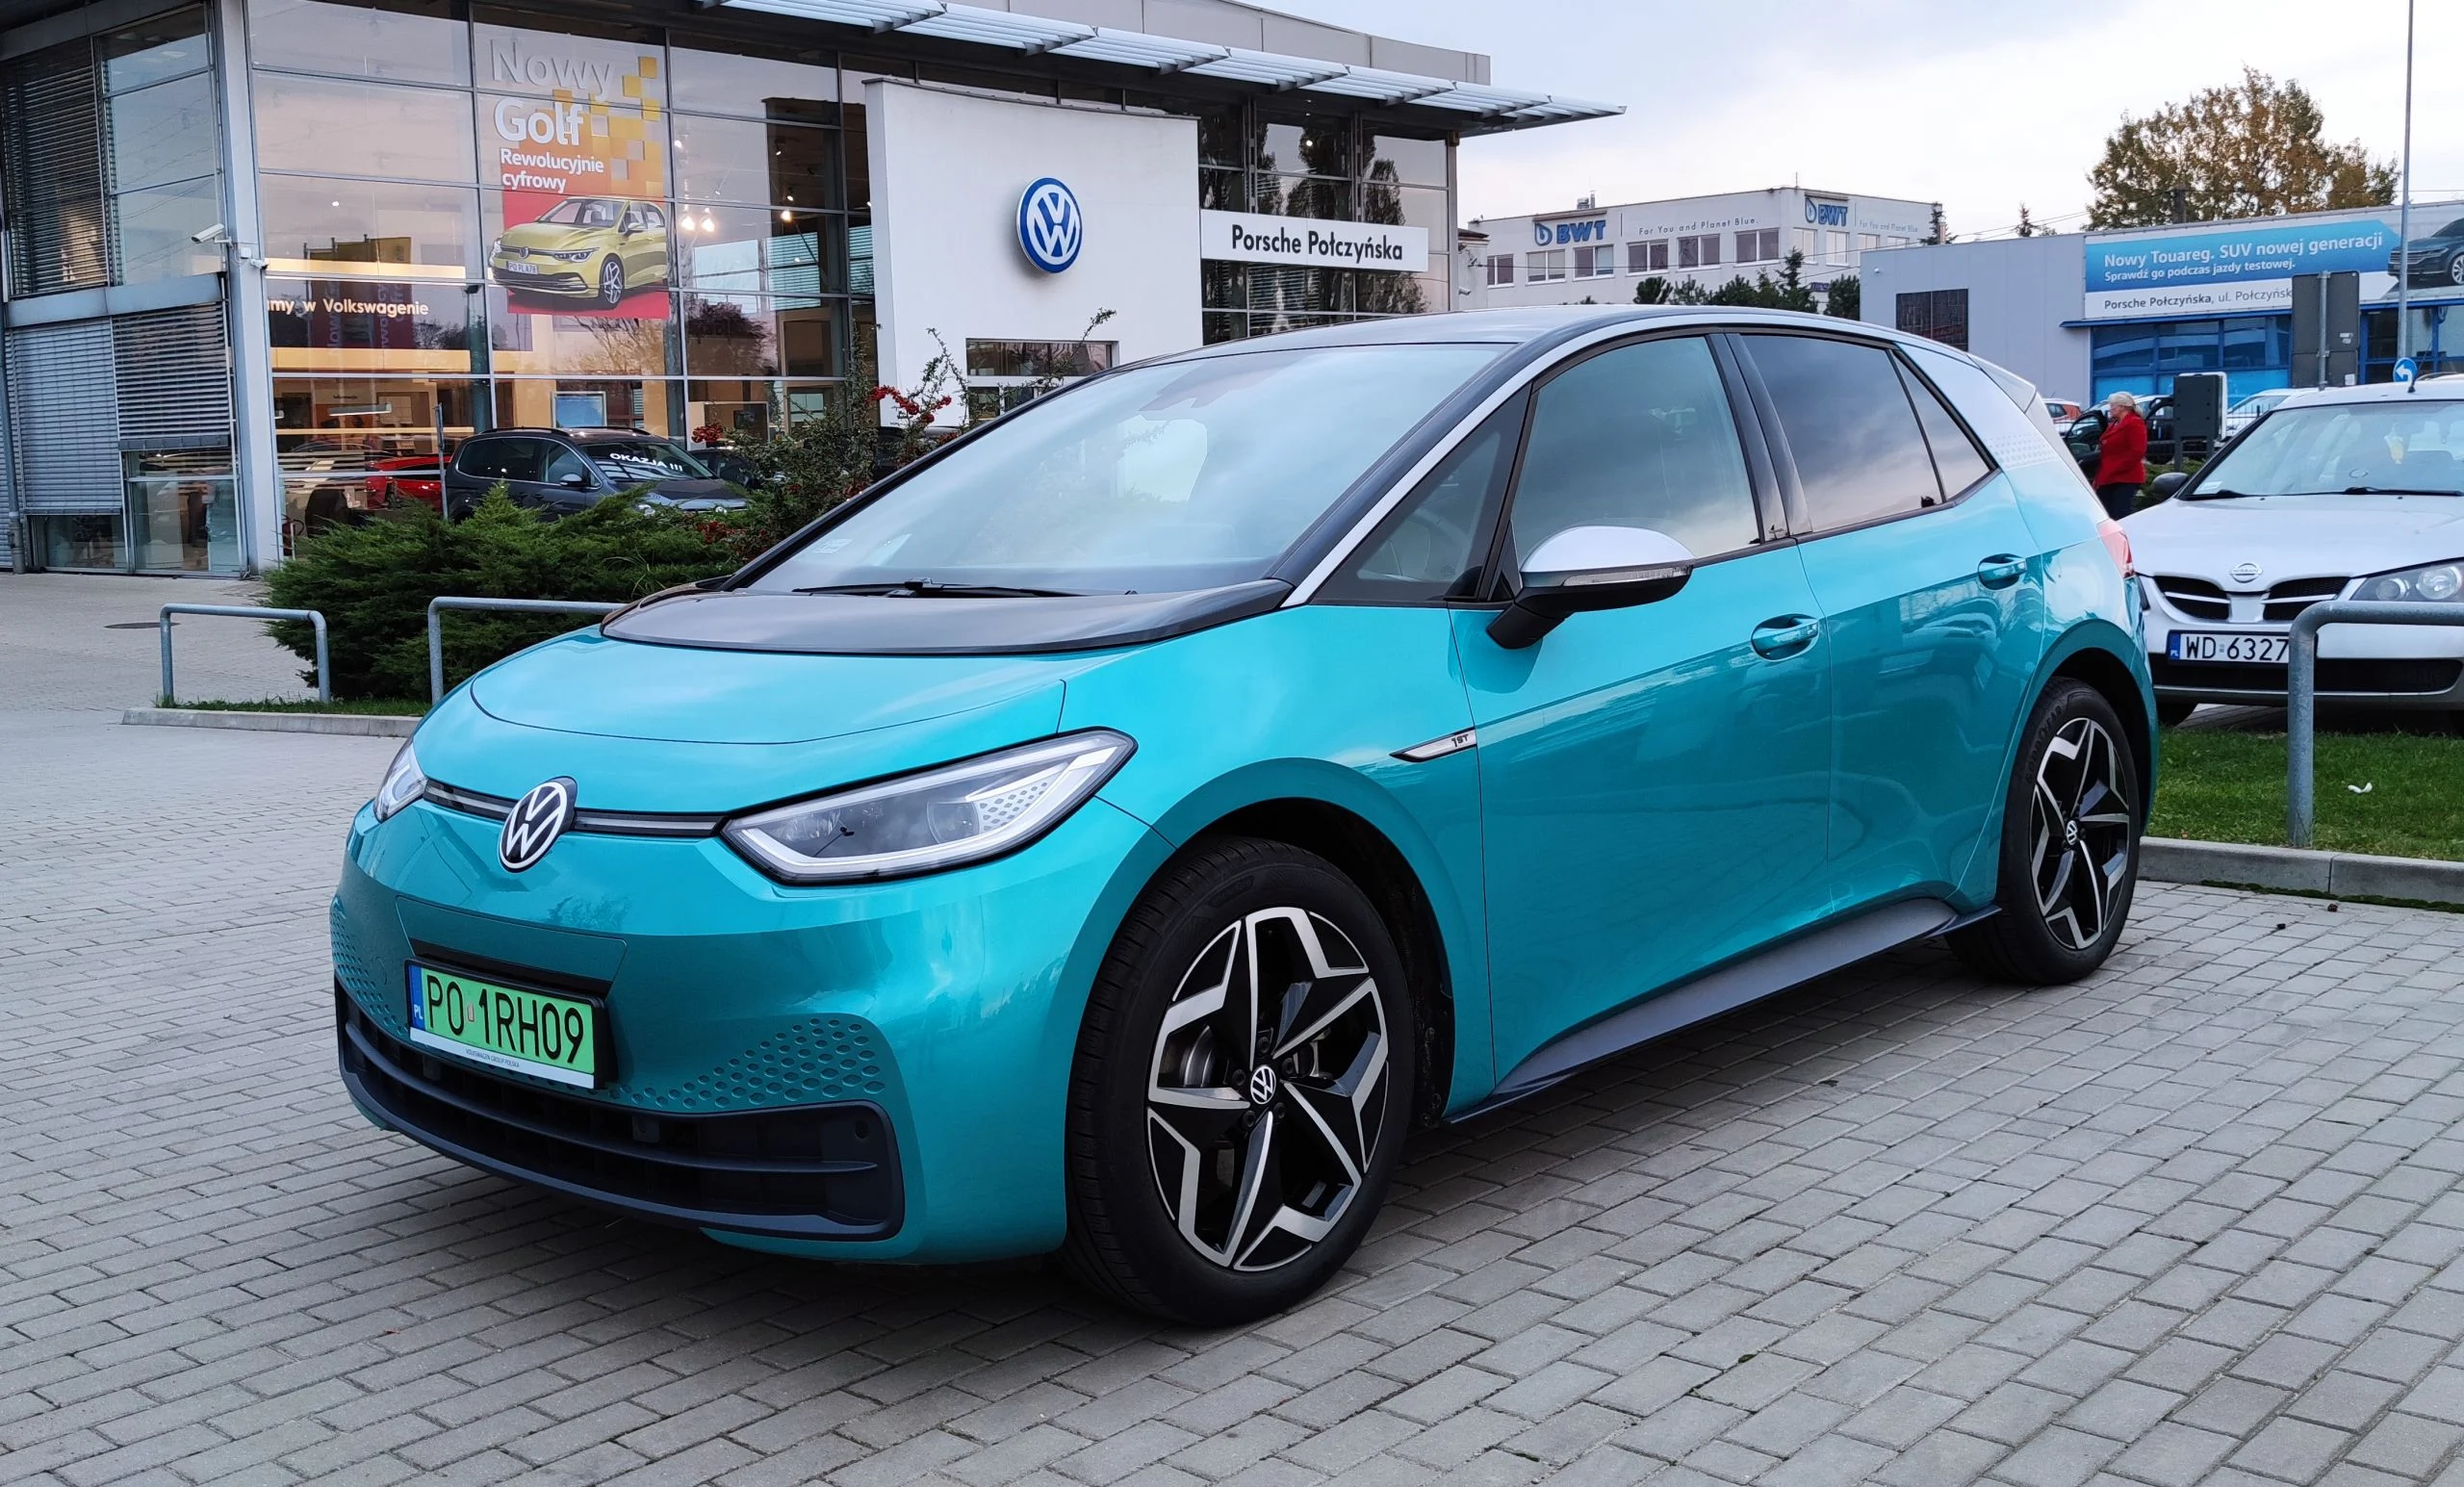tablica: (405, 957, 593, 1091)
